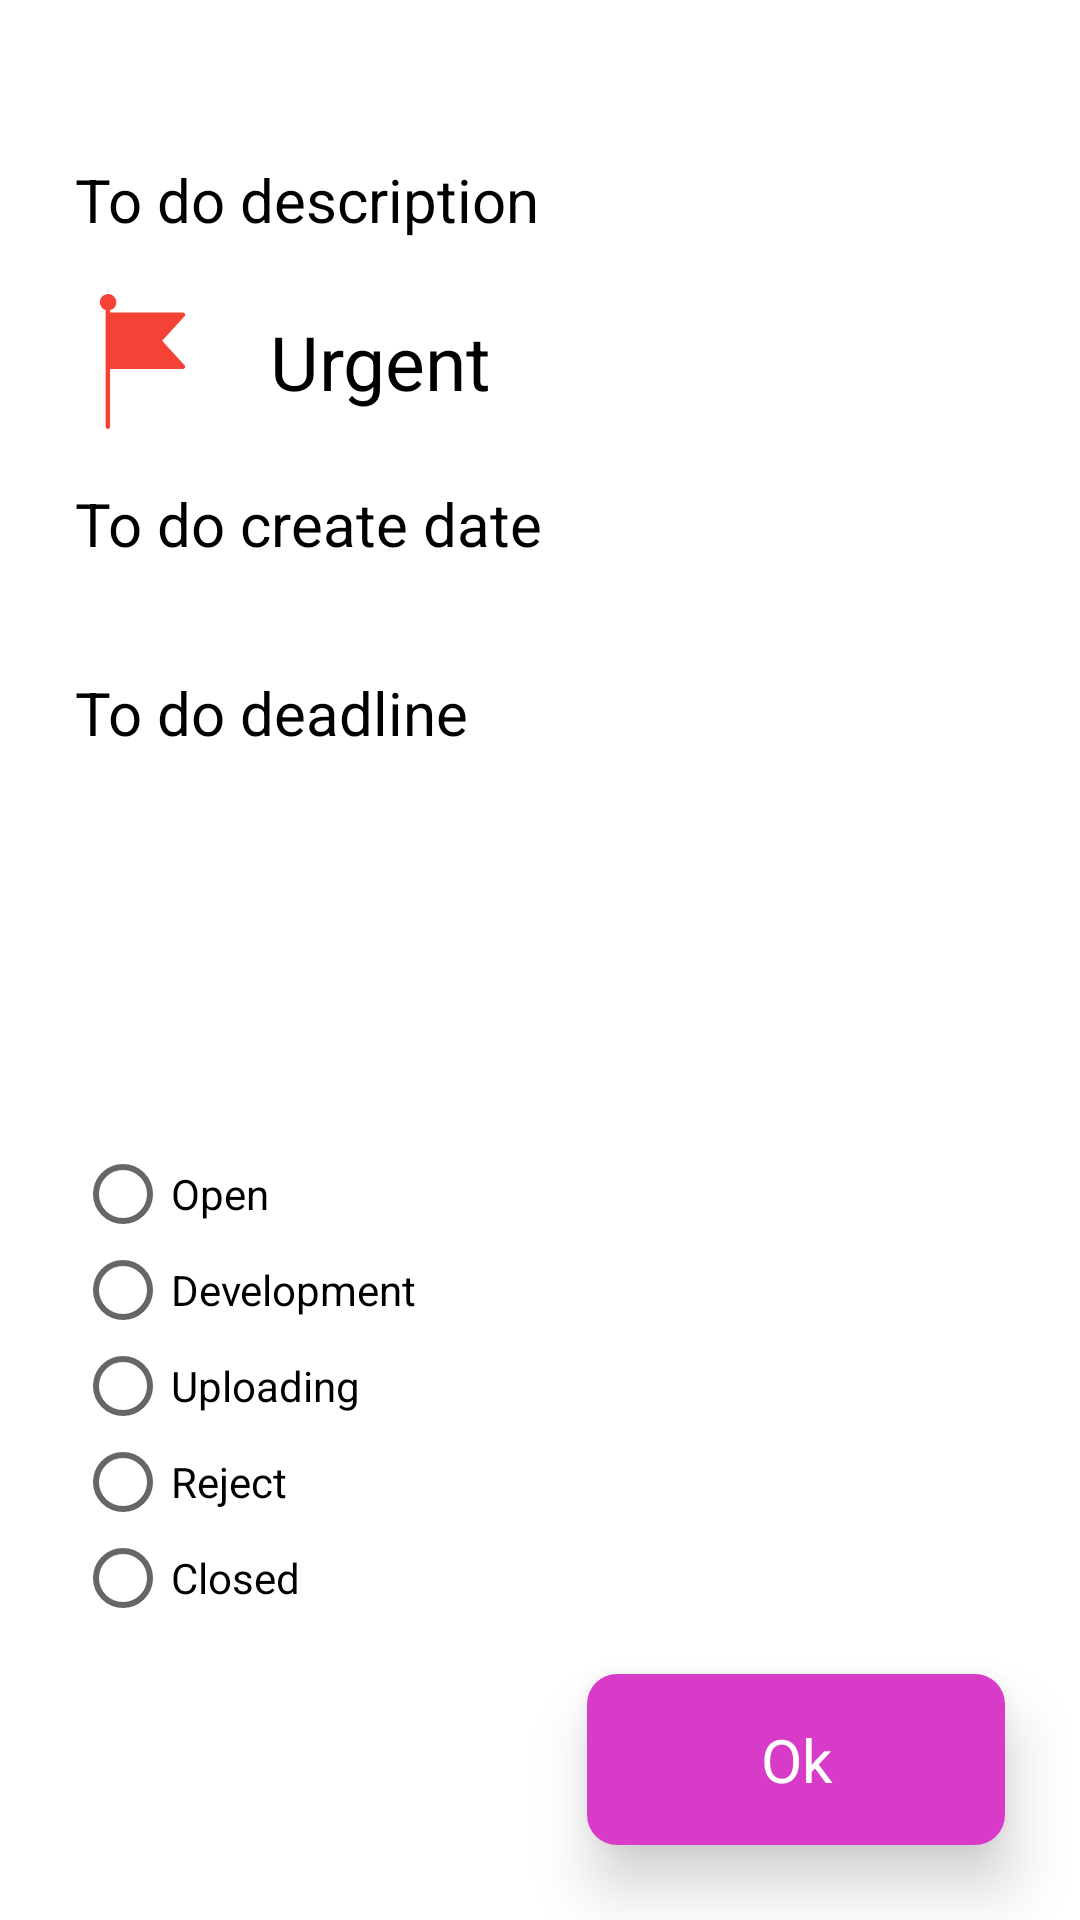

Named icons in this screenshot (1080x1920) and their centers, (x,y):
flag: (142,361)
